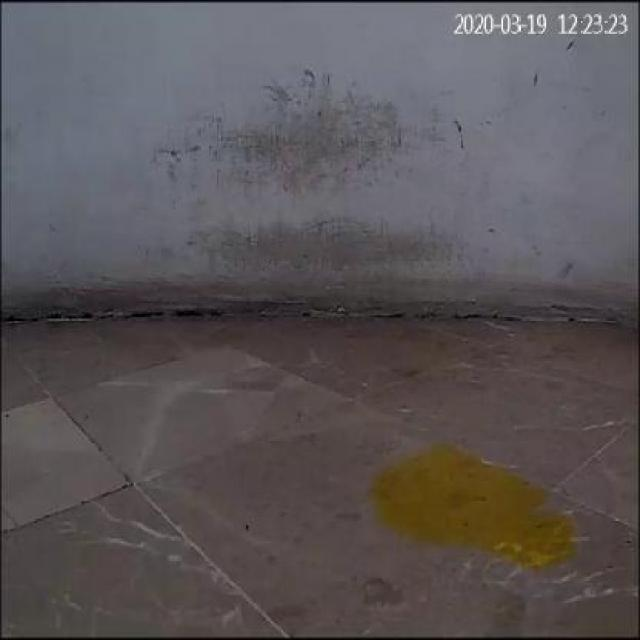spill: (372, 444, 574, 572)
